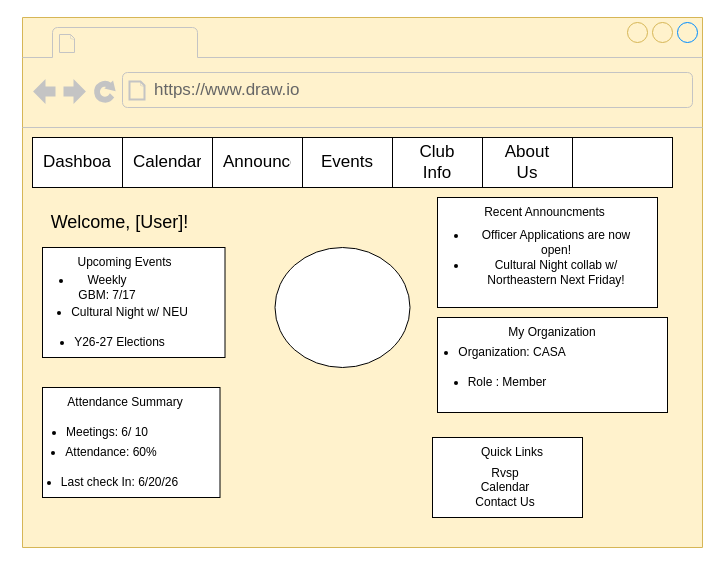
The diagram is 720 pixels wide and 565 high, and some of its shapes have lost their labels. The centre of each missing label's shape, as x and y in pixels:
"LOGO should go here ? maybe set as a background ?" goes at (x=342, y=307).
"Profile" goes at (x=622, y=162).
"Student Organization" goes at (x=137, y=42).
